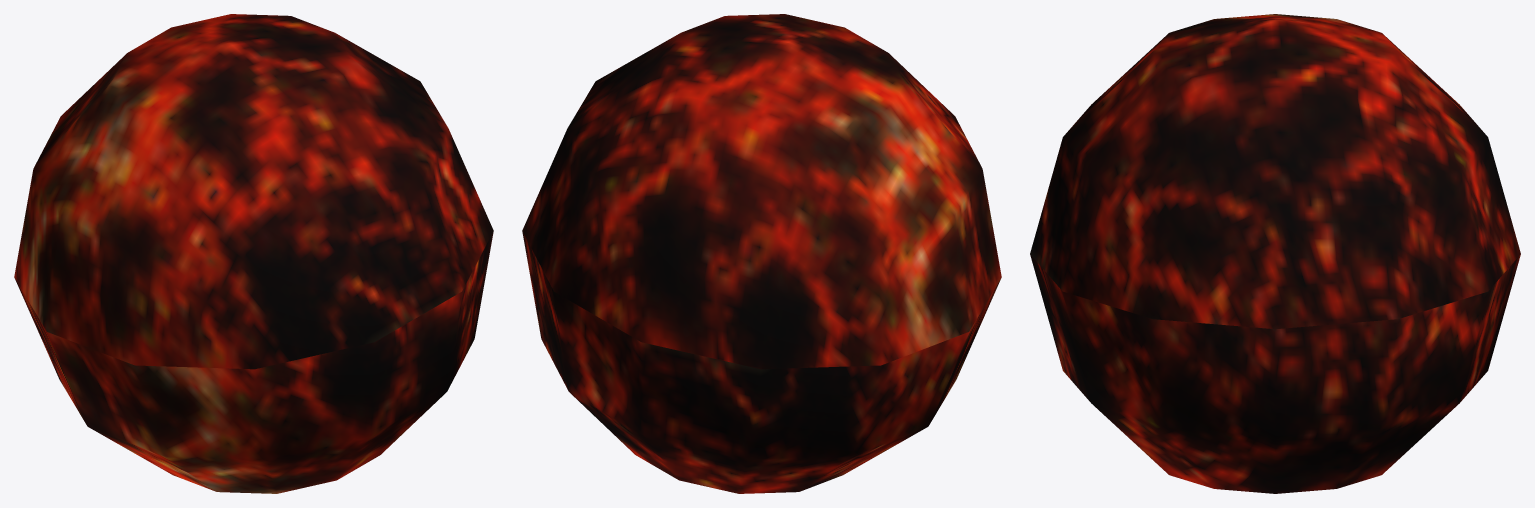
The model's file is qiu.FBX.
3 renders of one model, left to right at view 1: azimuth 30°, elevation 25°; view 2: azimuth 150°, elevation 25°; view 3: azimuth 270°, elevation 25°, orthographic.
Visible parts, largest first — view 1: Object001; view 2: Object001; view 3: Object001.
Part boxes in pixels (left/top/right/bottom): Object001: left=14, top=14, right=493, bottom=493; Object001: left=522, top=14, right=1001, bottom=493; Object001: left=1030, top=14, right=1520, bottom=493.
Size of the model in its own units: 102 by 102 by 103.
